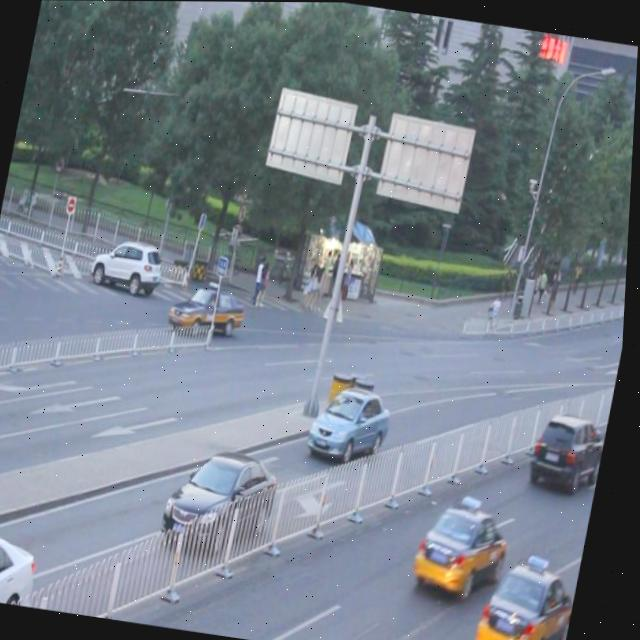car: (162, 445, 288, 559), (414, 496, 521, 604), (478, 551, 587, 640), (308, 380, 402, 468), (529, 410, 613, 493), (169, 279, 252, 344), (93, 236, 166, 297), (0, 515, 48, 605)
